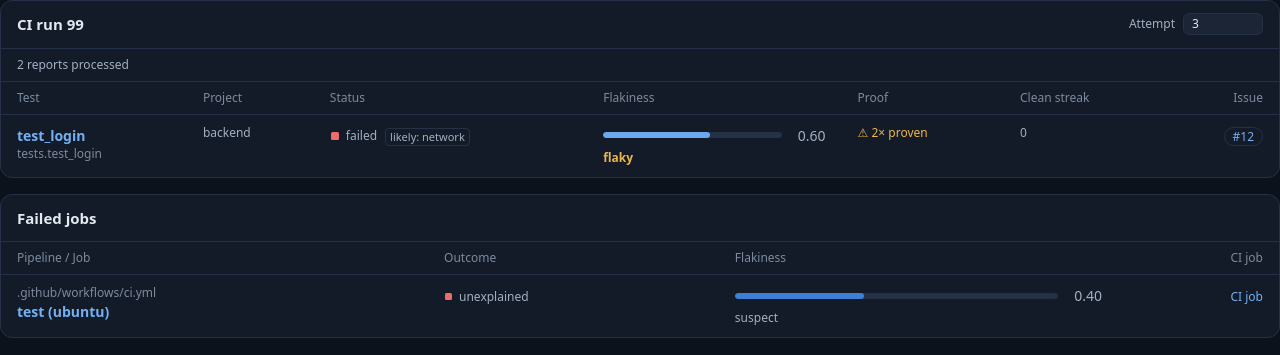
Test: CiRunView › asks for the latest attempt again when the input is cleared
The image size is (1280, 355).
Check: the button "test_login" is shown, box [17, 124, 85, 146]
Clear the number field labelled "Attempt" at (1223, 24), box [1183, 13, 1263, 35]
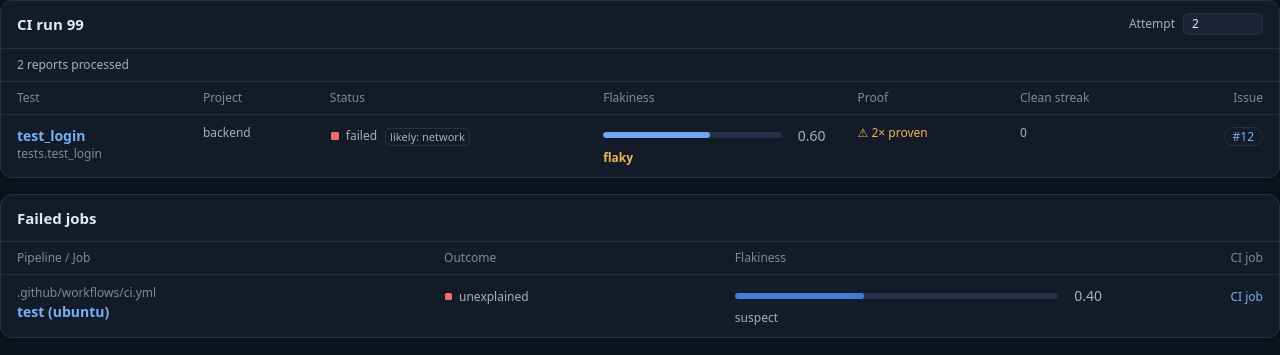
Check: the number field labelled "Attempt" holds "2", box [1183, 13, 1263, 35]
